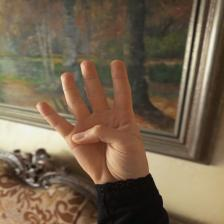four: (29, 54, 184, 202)
